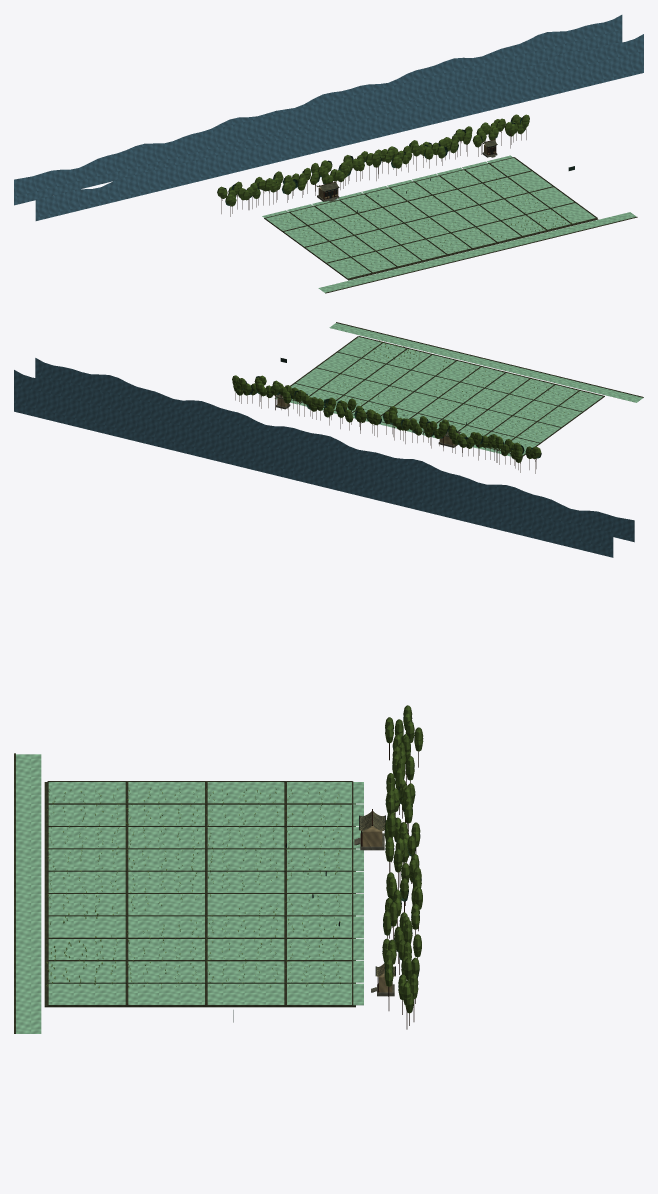
File: JingXi_Aligned_Spring.glb
3 renders of one model, top to bottom at view 1: azimuth 30°, elevation 25°; view 2: azimuth 150°, elevation 25°; view 3: azimuth 270°, elevation 25°, orthographic. The views are drawn at different scales.
Parts seen in each view (by area): view 1: Spring_MountainRidge_mountain, Spring_PaddyWater_water, Spring_TreeCrowns_crown, Spring_YuquanCanal_water, Spring_FieldEarth_earth, Spring_CrossBanks_earth, Spring_FieldBanks_earth, Spring_TreeTrunks_wood, Spring_Rice_Leaf_leaf, Spring_NearBank_earth, Spring_TreeCrowns_leaf; view 2: Spring_MountainRidge_mountain, Spring_PaddyWater_water, Spring_TreeCrowns_crown, Spring_YuquanCanal_water, Spring_FieldBanks_earth, Spring_CrossBanks_earth, Spring_FieldEarth_earth, Spring_TreeTrunks_wood, Spring_NearBank_earth, Spring_Rice_Leaf_leaf, Spring_TreeCrowns_leaf; view 3: Spring_PaddyWater_water, Spring_TreeCrowns_crown, Spring_YuquanCanal_water, Spring_FieldBanks_earth, Spring_FieldEarth_earth, Spring_CrossBanks_earth, Spring_Rice_Leaf_leaf.
Boxes of the visible parts, x1,y1,x2,y2 form: Spring_MountainRidge_mountain: [14, 15, 643, 220]; Spring_PaddyWater_water: [262, 155, 595, 278]; Spring_TreeCrowns_crown: [217, 114, 529, 206]; Spring_YuquanCanal_water: [318, 212, 636, 292]; Spring_FieldEarth_earth: [264, 157, 598, 280]; Spring_CrossBanks_earth: [265, 157, 596, 278]; Spring_FieldBanks_earth: [264, 157, 597, 279]; Spring_TreeTrunks_wood: [221, 129, 526, 216]; Spring_Rice_Leaf_leaf: [279, 165, 576, 274]; Spring_NearBank_earth: [325, 217, 637, 293]; Spring_TreeCrowns_leaf: [224, 117, 524, 205]; Spring_MountainRidge_mountain: [14, 358, 634, 557]; Spring_PaddyWater_water: [274, 337, 602, 456]; Spring_TreeCrowns_crown: [232, 375, 541, 462]; Spring_YuquanCanal_water: [329, 323, 643, 402]; Spring_FieldBanks_earth: [290, 336, 604, 455]; Spring_CrossBanks_earth: [291, 336, 603, 453]; Spring_FieldEarth_earth: [291, 336, 604, 456]; Spring_TreeTrunks_wood: [235, 390, 536, 473]; Spring_NearBank_earth: [336, 322, 643, 397]; Spring_Rice_Leaf_leaf: [315, 340, 594, 444]; Spring_TreeCrowns_leaf: [235, 376, 541, 458]; Spring_PaddyWater_water: [48, 782, 363, 1005]; Spring_TreeCrowns_crown: [382, 705, 423, 1013]; Spring_YuquanCanal_water: [16, 754, 41, 1033]; Spring_FieldBanks_earth: [48, 781, 352, 1006]; Spring_FieldEarth_earth: [44, 782, 355, 1007]; Spring_CrossBanks_earth: [47, 781, 353, 1005]; Spring_Rice_Leaf_leaf: [46, 788, 341, 988].
Size of the model in its own units: 195 by 13.26 by 95.15.
16 materials, 16 textured.
